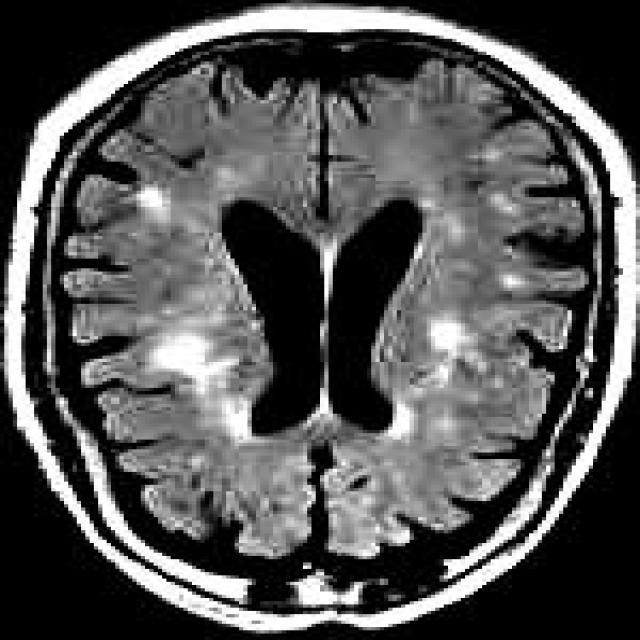notumor: (9, 10, 636, 637)
